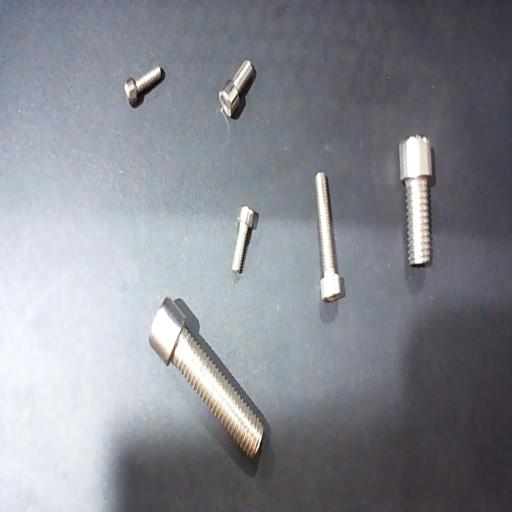screw: (148, 296, 264, 460), (399, 135, 432, 266), (315, 172, 341, 303), (218, 60, 254, 118), (124, 65, 161, 106), (232, 206, 254, 274)
